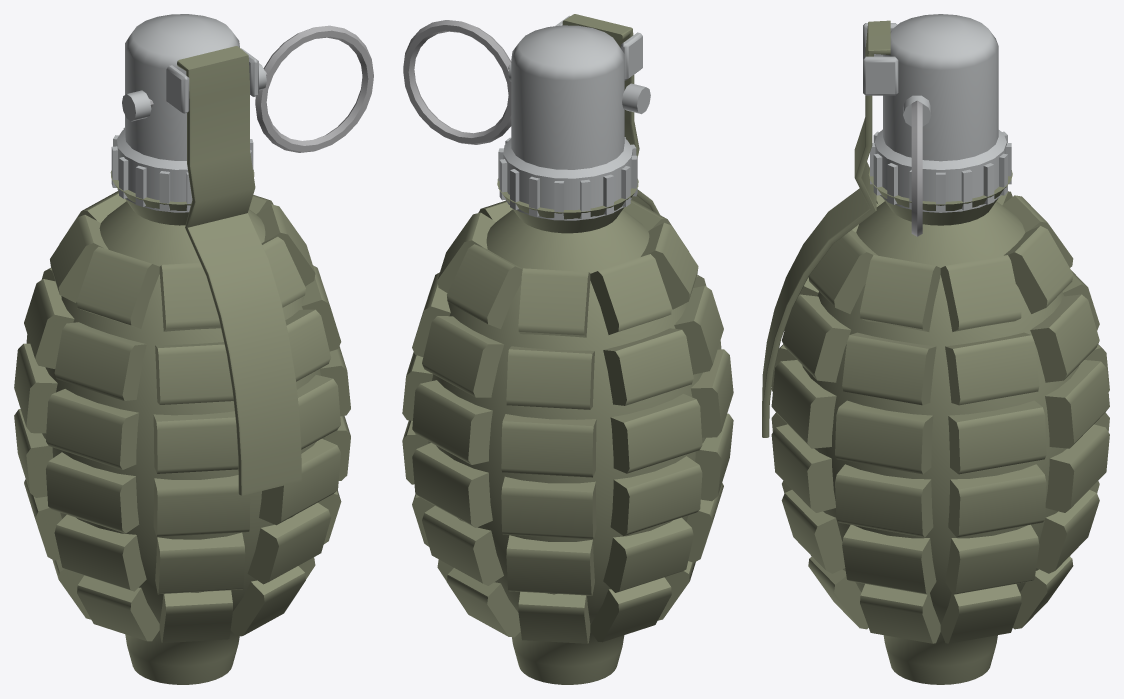
The picture shows the model from 3 angles, left to right: view 1: azimuth 30°, elevation 25°; view 2: azimuth 150°, elevation 25°; view 3: azimuth 270°, elevation 25°; orthographic projection.
Visible parts, largest first — view 1: body, spoon, pin; view 2: body, pin, spoon; view 3: body, spoon, pin.
Part boxes in pixels (x1,y1,x2,y2): body: (14, 14, 350, 684); spoon: (177, 46, 301, 495); pin: (149, 25, 373, 152); body: (402, 15, 733, 684); pin: (403, 20, 511, 144); spoon: (562, 14, 659, 214); body: (771, 14, 1109, 684); spoon: (762, 20, 890, 437); pin: (911, 100, 922, 236).
Bounding box in the file's own units: 0.0765 × 0.1428 × 0.0707.
